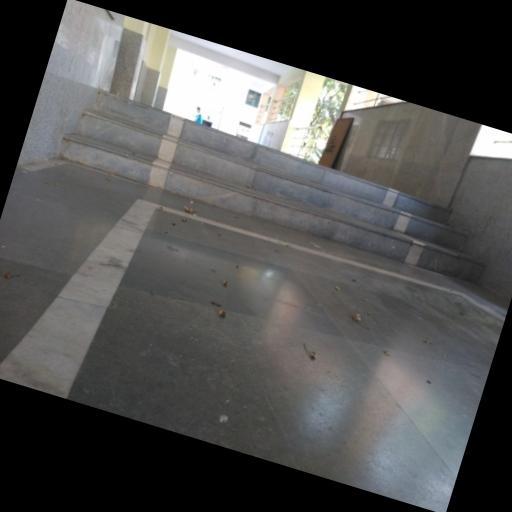stairs: (61, 92, 483, 282)
